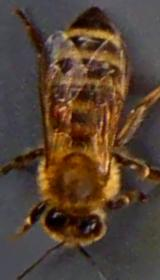varroa_mite: (50, 96, 76, 129)
